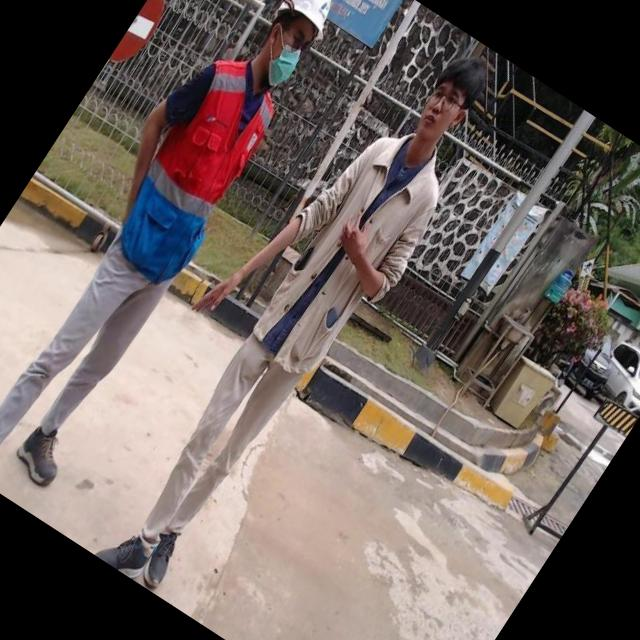hard_hat: (271, 0, 352, 45)
safety_vest: (96, 48, 298, 292)
vehicle: (48, 0, 552, 630), (0, 0, 381, 520)
work_boots: (4, 418, 76, 494), (94, 518, 160, 582), (133, 530, 190, 596)
